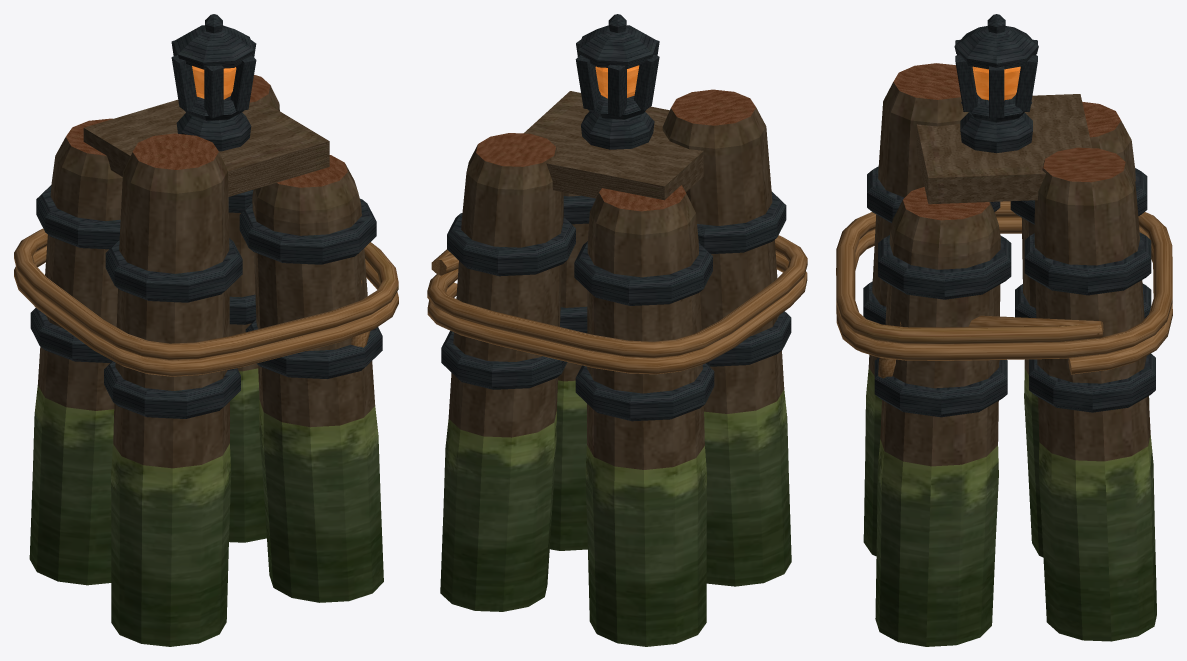
The model's file is venice_bricola_beacon_mid.glb.
The picture shows the model from 3 angles, left to right: view 1: azimuth 30°, elevation 25°; view 2: azimuth 150°, elevation 25°; view 3: azimuth 270°, elevation 25°; orthographic projection. The views are drawn at different scales.
Parts seen in each view (by area): view 1: venice_bricola_beacon_mid; view 2: venice_bricola_beacon_mid; view 3: venice_bricola_beacon_mid.
Boxes of the visible parts, x1,y1,x2,y2 form: venice_bricola_beacon_mid: (14,14,398,646); venice_bricola_beacon_mid: (427,14,807,646); venice_bricola_beacon_mid: (836,14,1172,646).
Size of the model in its own units: 2.8 by 5.2 by 2.8.
Materials: 2 (2 with a texture image).
